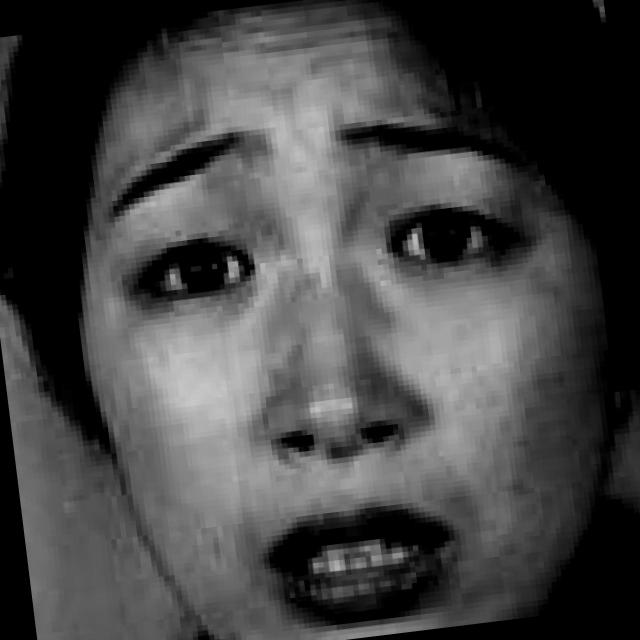fear: (35, 23, 624, 640)
